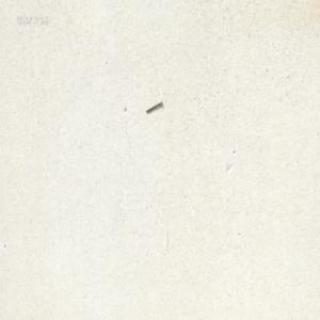Bolttrack_idkeyframe: (144, 98, 161, 112)
